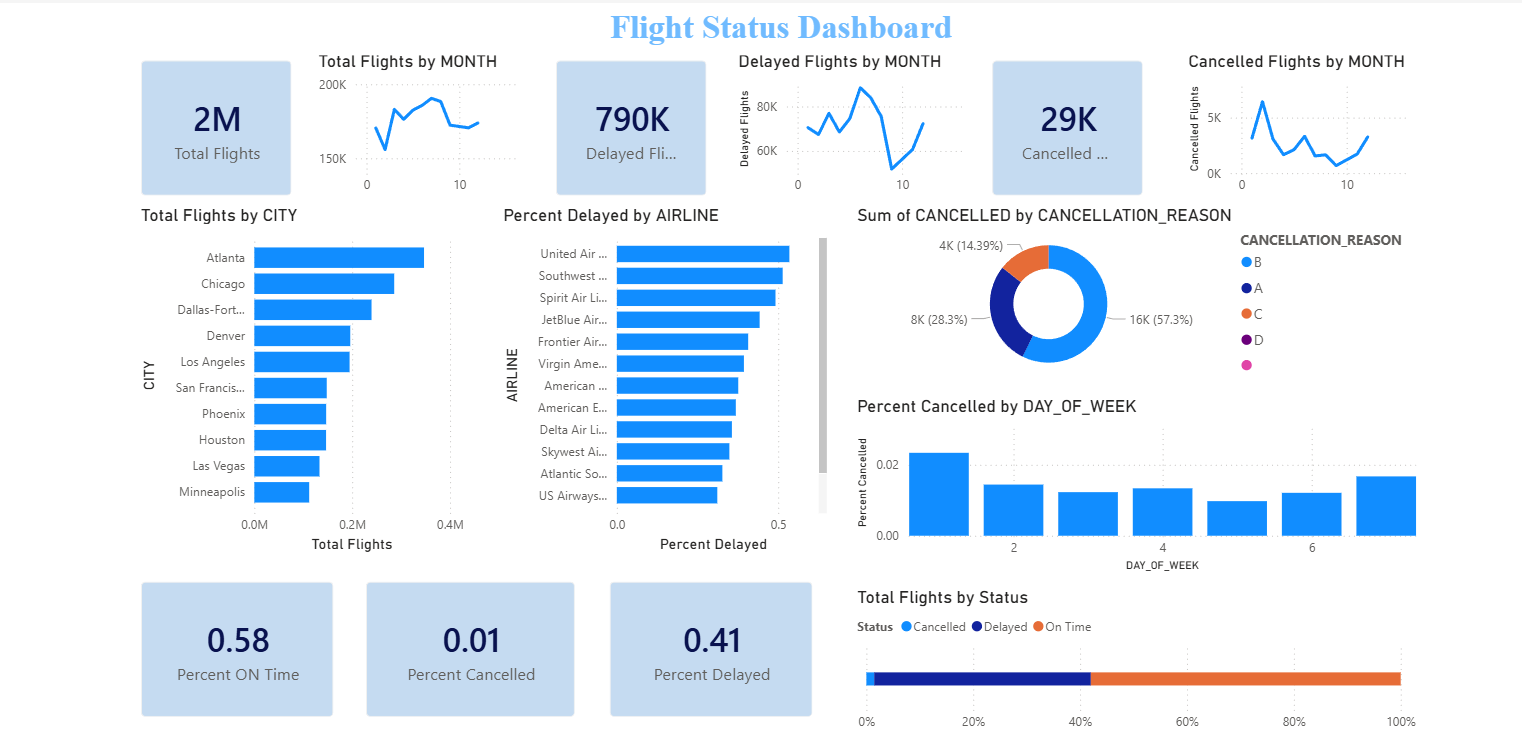

Layout of this report page (visuals, bound fields, positions):
{"tool":"powerbi","page":{"name":"Page 1","canvas":[1280,720],"ordinal":0},"visuals":[{"type":"cardVisual","fields":{"Data":["flights.Total Flights"]},"box":[10,51,157,142],"z":0},{"type":"lineChart","fields":{"Y":["flights.Total Flights"],"Category":["flights.MONTH"]},"box":[183,47,203,150],"z":1},{"type":"cardVisual","fields":{"Data":["flights.Delayed Flights"]},"box":[415,51,157,142],"z":2},{"type":"lineChart","fields":{"Category":["flights.MONTH"],"Y":["flights.Delayed Flights"]},"box":[594,47,231,150],"z":3},{"type":"lineChart","fields":{"Category":["flights.MONTH"],"Y":["flights.Cancelled Flights"]},"box":[1033,47,226,150],"z":4},{"type":"cardVisual","fields":{"Data":["flights.Cancelled Flights"]},"box":[842,51,157,142],"z":5},{"type":"clusteredBarChart","fields":{"Category":["airports.CITY"],"Y":["flights.Total Flights"]},"box":[10,197,326,345],"z":6},{"type":"clusteredBarChart","fields":{"Category":["airlines.AIRLINE"],"Y":["flights.Percent Delayed"]},"box":[364,197,326,345],"z":7},{"type":"donutChart","fields":{"Y":["Sum(flights.CANCELLED)"],"Category":["flights.CANCELLATION_REASON"]},"box":[710,197,556,176],"z":8},{"type":"cardVisual","fields":{"Data":["flights.Percent ON Time"]},"box":[10,561,198,142],"z":9},{"type":"cardVisual","fields":{"Data":["flights.Percent Delayed"]},"box":[468,561,208,142],"z":10},{"type":"cardVisual","fields":{"Data":["flights.Percent Cancelled"]},"box":[229,561,214,142],"z":11},{"type":"hundredPercentStackedBarChart","fields":{"Y":["flights.Total Flights"],"Series":["flights.Status"]},"box":[710,570,556,150],"z":12},{"type":"textbox","box":[0,0,1280,51],"z":13},{"type":"clusteredColumnChart","fields":{"Y":["flights.Percent Cancelled"],"Category":["flights.DAY_OF_WEEK"]},"box":[710,384,556,177],"z":14}]}

Visuals, with their boxes on the page's 1280x720 design canvas (x1, y1, x2, y2). These are canvas units, not pixel positions in the 1522x732 screenshot, which may show the page scaled, cropped or inside an application window:
cardVisual - flights.Total Flights: (x1=10, y1=51, x2=167, y2=193)
lineChart - flights.Total Flights x flights.MONTH: (x1=183, y1=47, x2=386, y2=197)
cardVisual - flights.Delayed Flights: (x1=415, y1=51, x2=572, y2=193)
lineChart - flights.MONTH x flights.Delayed Flights: (x1=594, y1=47, x2=825, y2=197)
lineChart - flights.MONTH x flights.Cancelled Flights: (x1=1033, y1=47, x2=1259, y2=197)
cardVisual - flights.Cancelled Flights: (x1=842, y1=51, x2=999, y2=193)
clusteredBarChart - airports.CITY x flights.Total Flights: (x1=10, y1=197, x2=336, y2=542)
clusteredBarChart - airlines.AIRLINE x flights.Percent Delayed: (x1=364, y1=197, x2=690, y2=542)
donutChart - Sum(flights.CANCELLED) x flights.CANCELLATION_REASON: (x1=710, y1=197, x2=1266, y2=373)
cardVisual - flights.Percent ON Time: (x1=10, y1=561, x2=208, y2=703)
cardVisual - flights.Percent Delayed: (x1=468, y1=561, x2=676, y2=703)
cardVisual - flights.Percent Cancelled: (x1=229, y1=561, x2=443, y2=703)
hundredPercentStackedBarChart - flights.Total Flights x flights.Status: (x1=710, y1=570, x2=1266, y2=720)
textbox: (x1=0, y1=0, x2=1280, y2=51)
clusteredColumnChart - flights.Percent Cancelled x flights.DAY_OF_WEEK: (x1=710, y1=384, x2=1266, y2=561)
